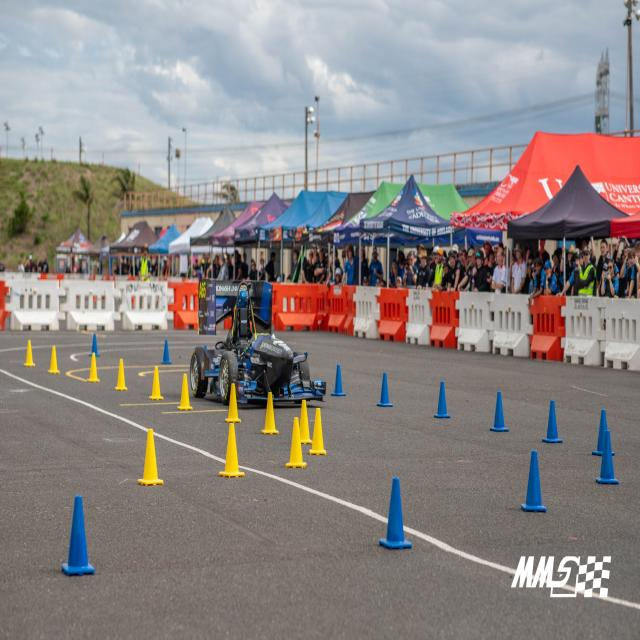blue_cone: (61, 495, 95, 576), (378, 476, 413, 550), (521, 450, 546, 512), (596, 430, 620, 485), (593, 408, 614, 456), (543, 399, 562, 444), (490, 392, 510, 432), (433, 380, 451, 420), (377, 372, 392, 407), (331, 364, 346, 396), (161, 339, 171, 364), (90, 333, 100, 357)
yellow_cone: (138, 429, 164, 485), (220, 423, 244, 478), (286, 417, 306, 468), (310, 408, 326, 455), (297, 400, 313, 444), (262, 392, 278, 434), (225, 383, 241, 423), (177, 374, 193, 410), (150, 366, 164, 400), (87, 352, 100, 383), (115, 358, 127, 391), (48, 344, 60, 374), (24, 339, 36, 367)
